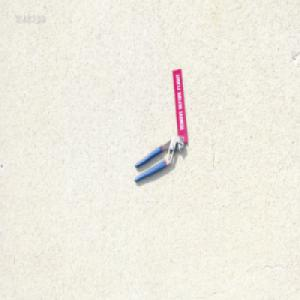Label: (170, 65, 188, 144)
Pliers: (133, 133, 184, 182)
